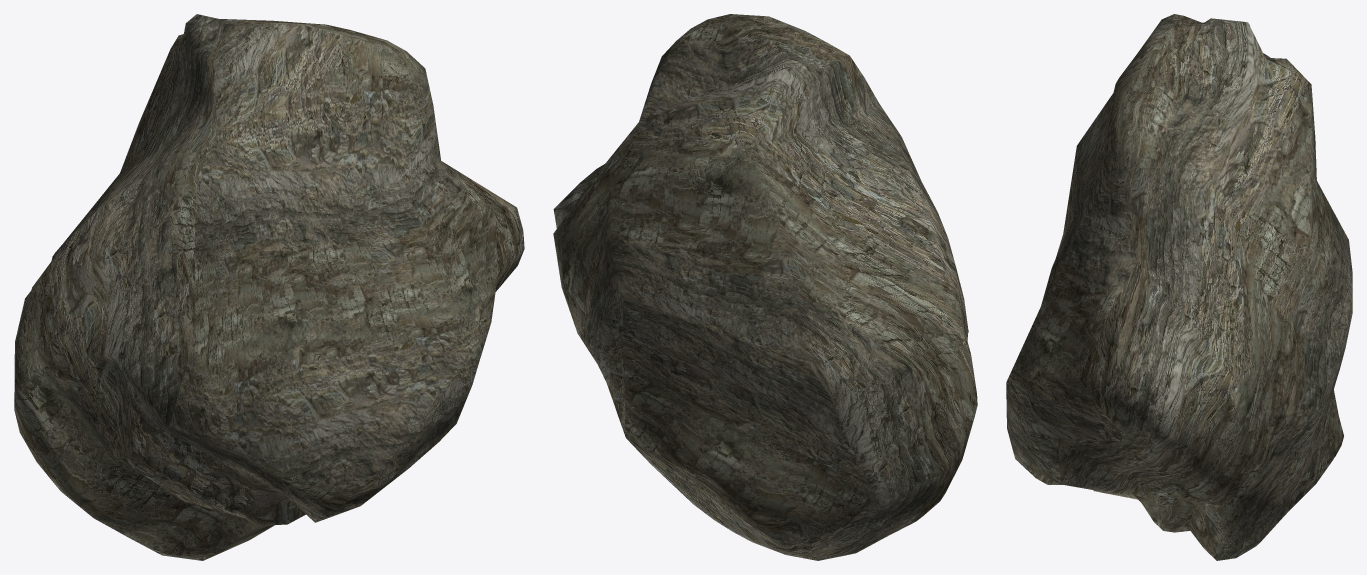
Rendered from duhoc_rock_a.glb.
3 renders of one model, left to right at view 1: azimuth 30°, elevation 25°; view 2: azimuth 150°, elevation 25°; view 3: azimuth 270°, elevation 25°, orthographic. The views are drawn at different scales.
Size of the model in its own units: 18.41 by 19.77 by 11.66.
Materials: 1 (1 with a texture image).
